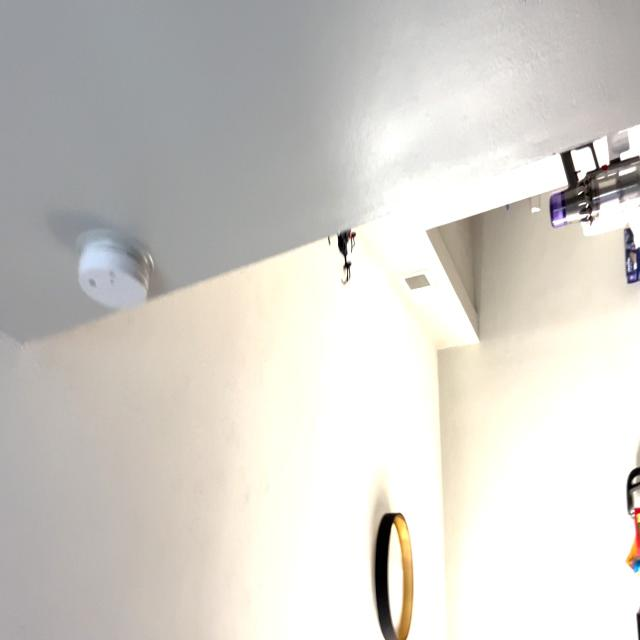drone: (322, 220, 359, 300)
